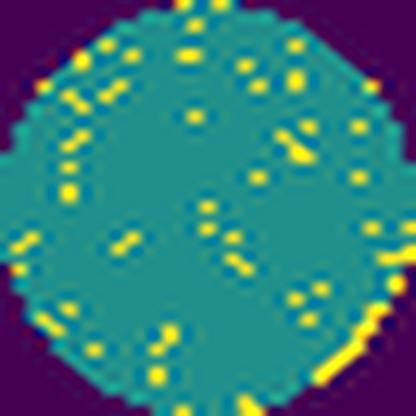Edge-Loc: (311, 290, 396, 389)
